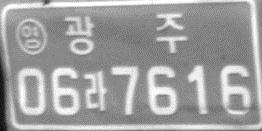0: (16, 66, 46, 116)
1: (182, 63, 214, 114)
6: (219, 64, 251, 116), (146, 64, 178, 115), (49, 66, 80, 116)
7: (110, 65, 140, 116)
광주_D: (63, 13, 187, 56)
라: (83, 70, 108, 111)
영: (14, 16, 48, 56)
